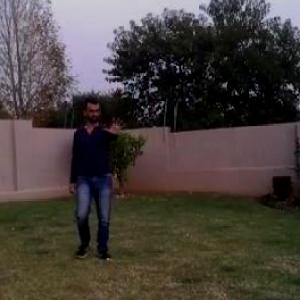follow_hand: (104, 112, 128, 138)
